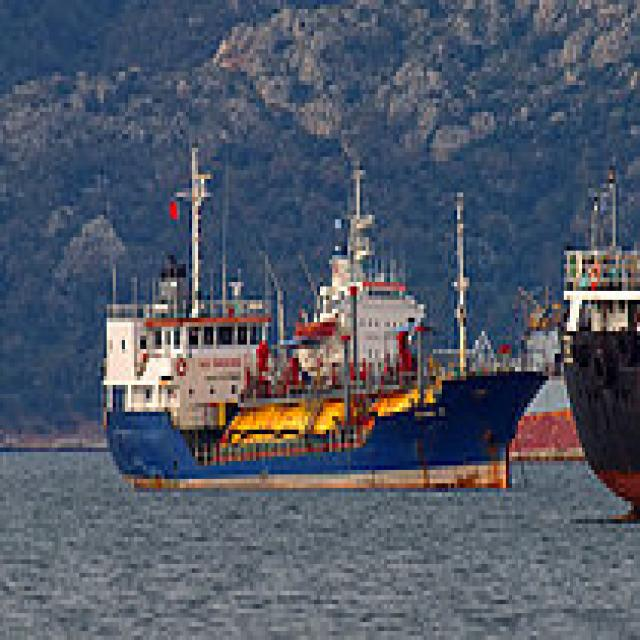Tanker: (94, 134, 548, 488)
